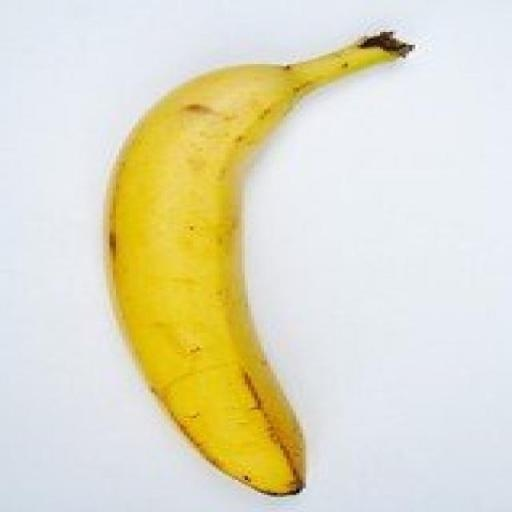fruit: (108, 33, 411, 494)
